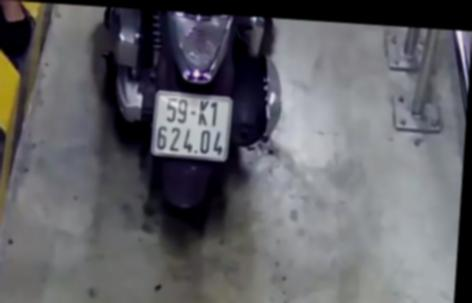License_Plate: (147, 86, 238, 170)
